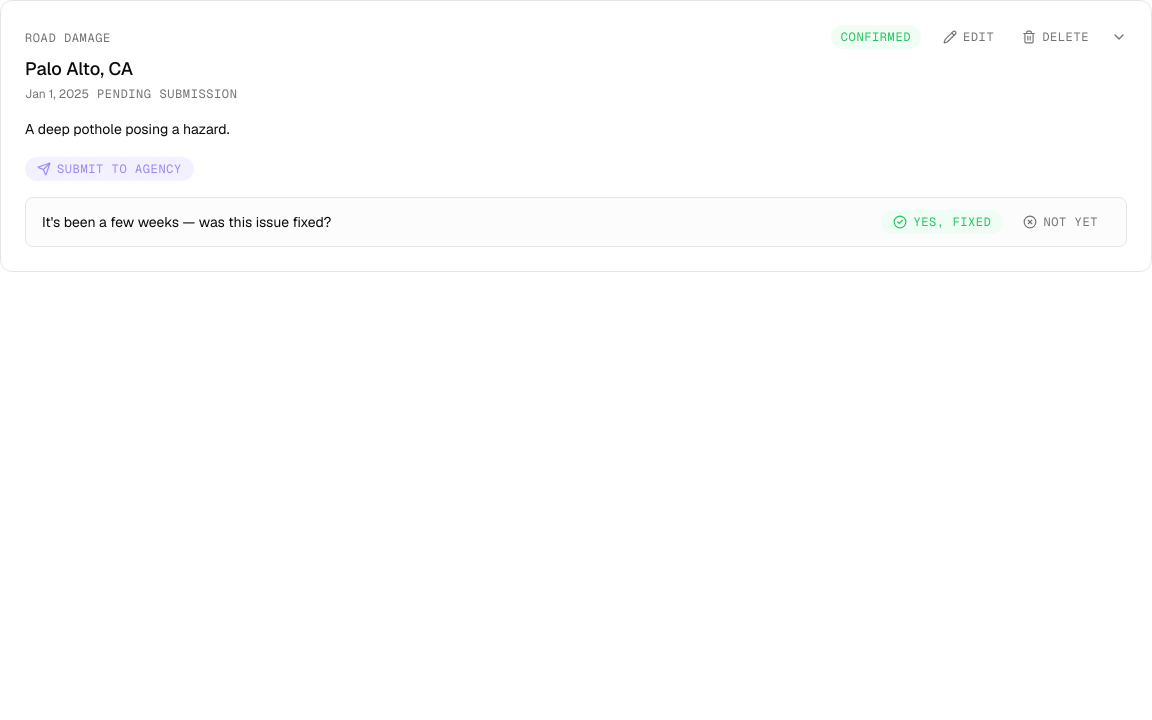
Scenario: ReportCard (expand/collapse) › shows the ImageOff placeholder when there is no photo
Click the button: [576, 254] box top-left (1, 1), bottom-right (1151, 270)
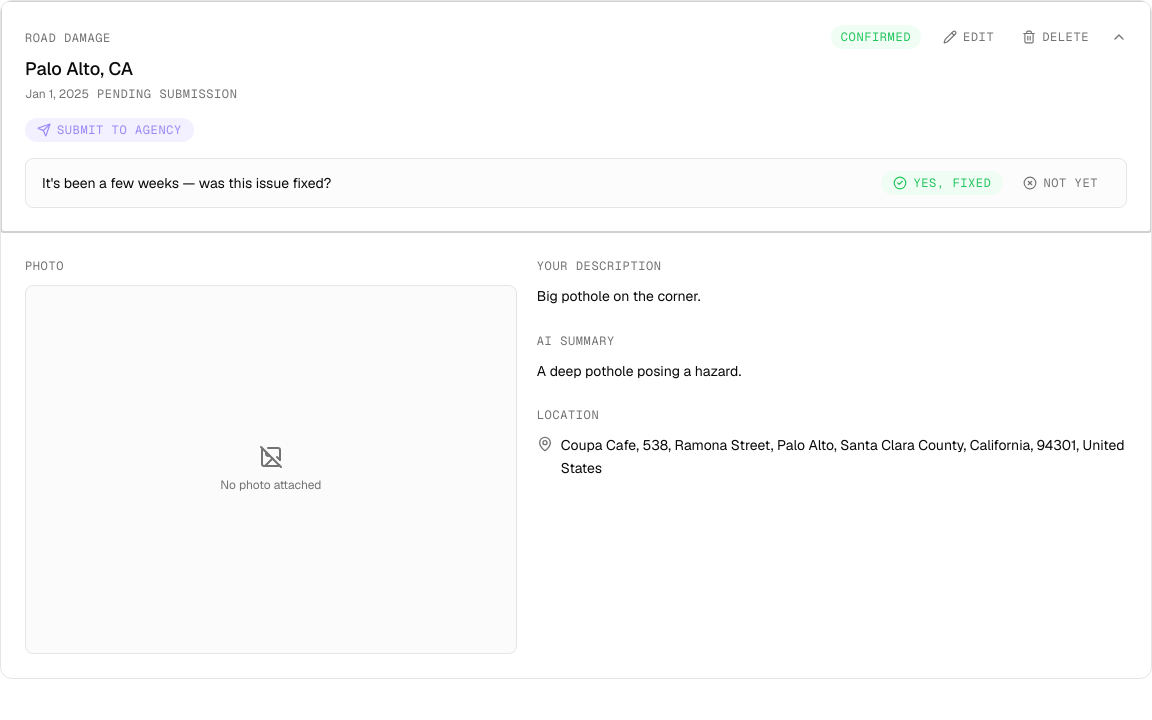
Expected: the text "No photo attached" is shown, top-left (220, 477), bottom-right (322, 493)
